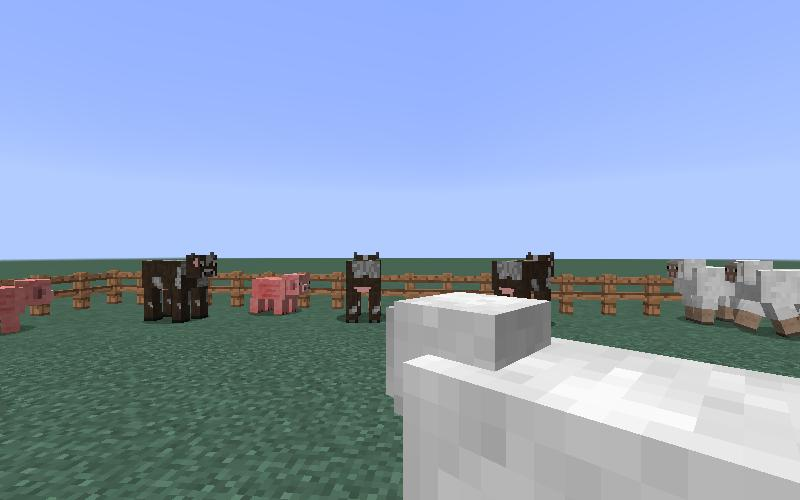cow: (137, 244, 225, 331), (340, 250, 385, 330)
pig: (244, 270, 315, 319), (2, 278, 53, 334)
sheep: (383, 291, 800, 497), (719, 255, 800, 343), (666, 260, 736, 324)
